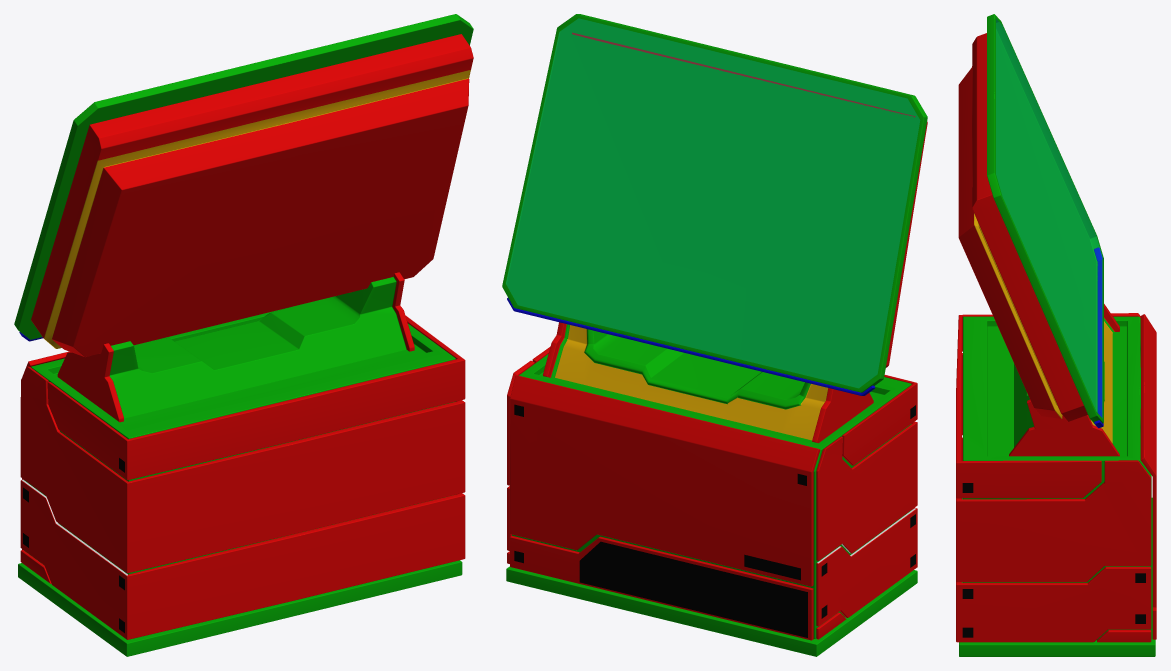
Rendered from SM0127_Lobby_ControlPanels_01.fbx.
3 views of the same model, side by side, from view 1: azimuth 30°, elevation 25°; view 2: azimuth 150°, elevation 25°; view 3: azimuth 270°, elevation 25° (orthographic). The views are drawn at different scales.
Parts seen in each view (by area): view 1: SM0127_Lobby_ControlPanels_01; view 2: SM0127_Lobby_ControlPanels_01; view 3: SM0127_Lobby_ControlPanels_01.
Part boxes in pixels (x1,y1,x2,y2): SM0127_Lobby_ControlPanels_01: (14, 14, 473, 656); SM0127_Lobby_ControlPanels_01: (502, 14, 927, 656); SM0127_Lobby_ControlPanels_01: (956, 14, 1156, 656).
Bounding box in the file's own units: 552 × 261 × 702.
